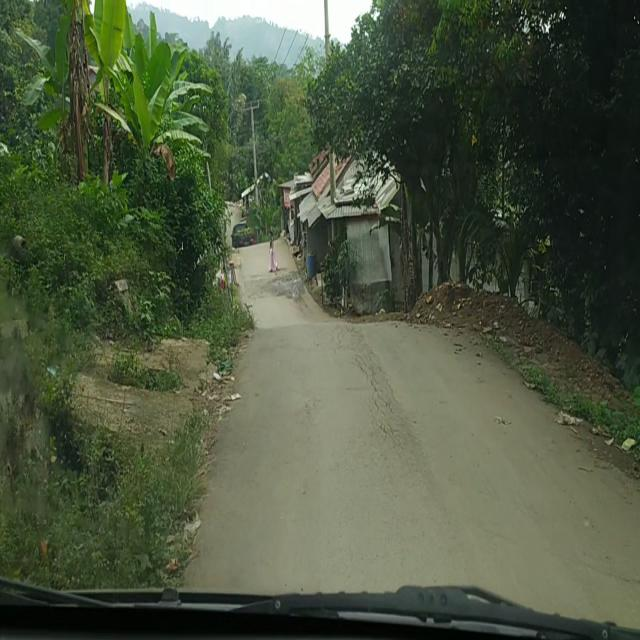Drain Hole: (346, 340, 412, 450)
